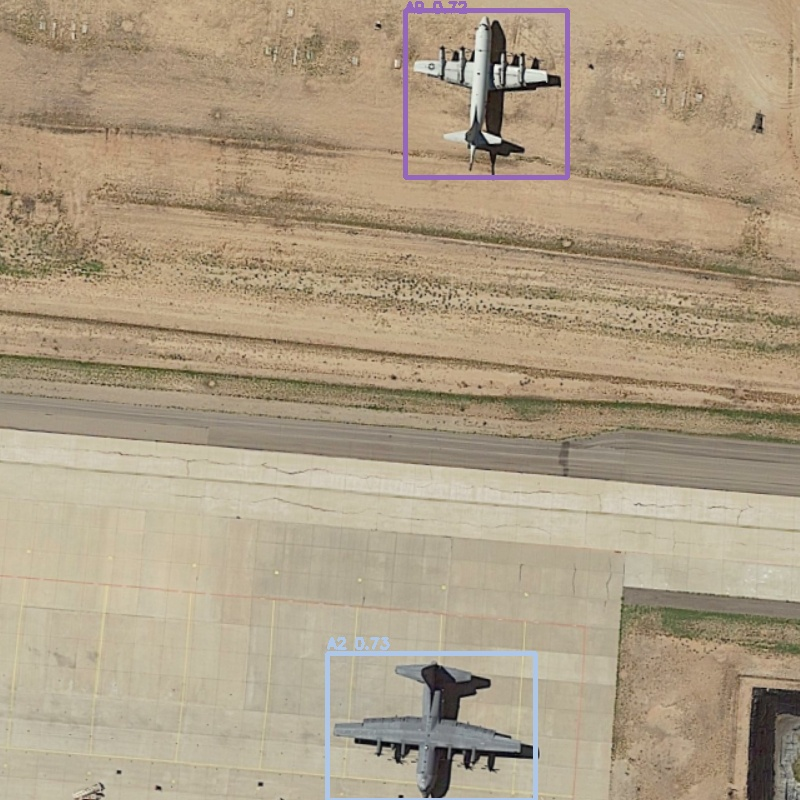A2: (327, 653, 535, 800)
A9: (405, 10, 567, 177)
